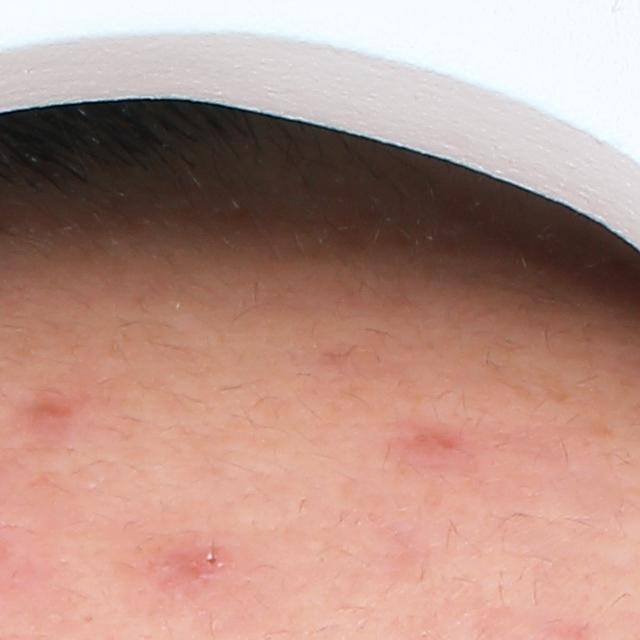papule: (32, 398, 78, 431)
